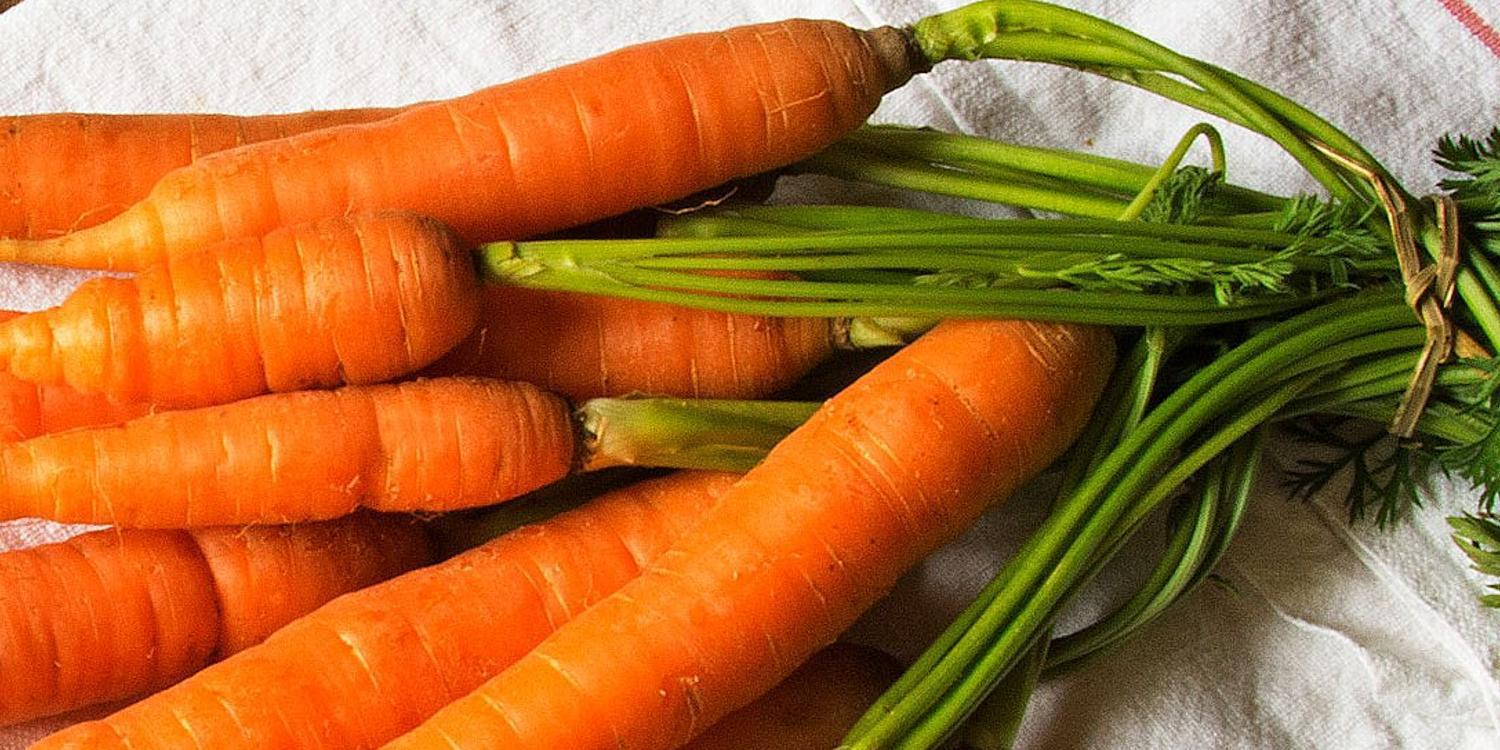carrot: (0, 0, 1089, 539), (0, 24, 970, 250), (4, 214, 576, 519)
